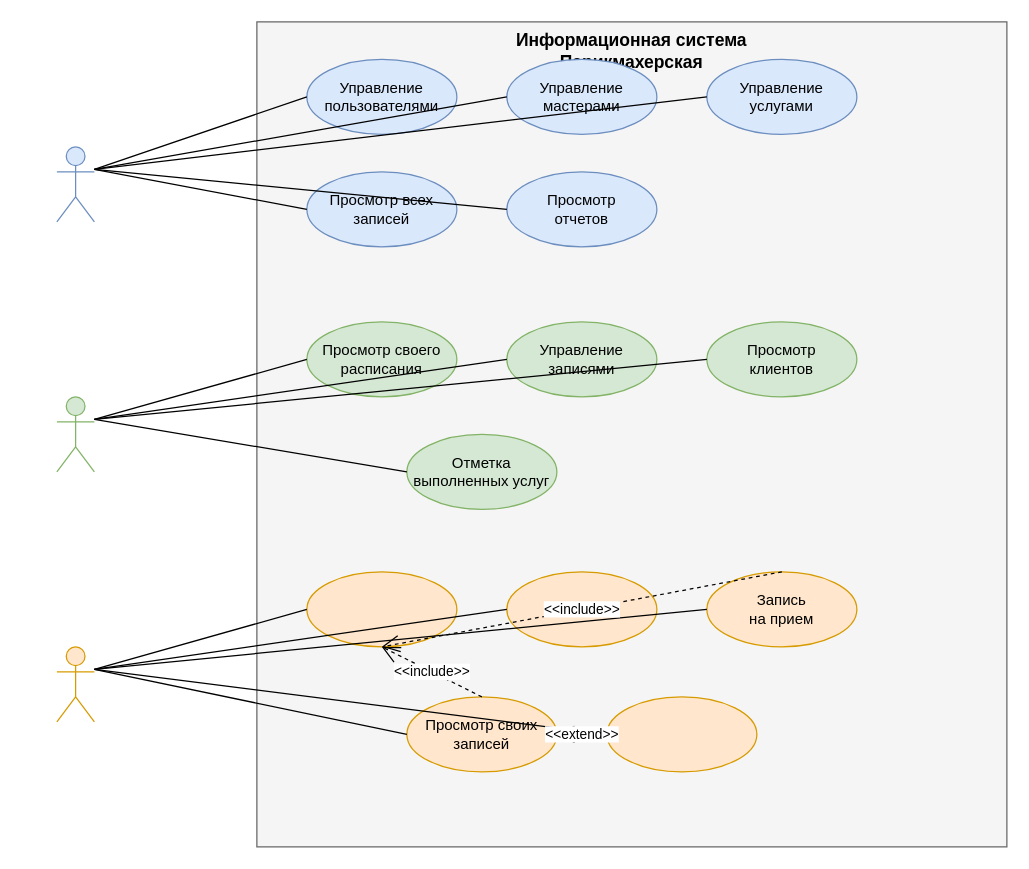
Some shapes in this 1029 by 869 pixel diagram are drawn without their labels. The shapes that lost their labels are listed below. From the top down, each one's box as (x1, y1, x2, y2) in pixels, then its label:
(56, 146, 94, 222): Администратор
(56, 396, 94, 472): Мастер
(306, 571, 457, 647): Авторизация
(506, 571, 657, 647): Просмотр услуг
(56, 646, 94, 722): Клиент
(606, 696, 757, 772): Отмена записи
